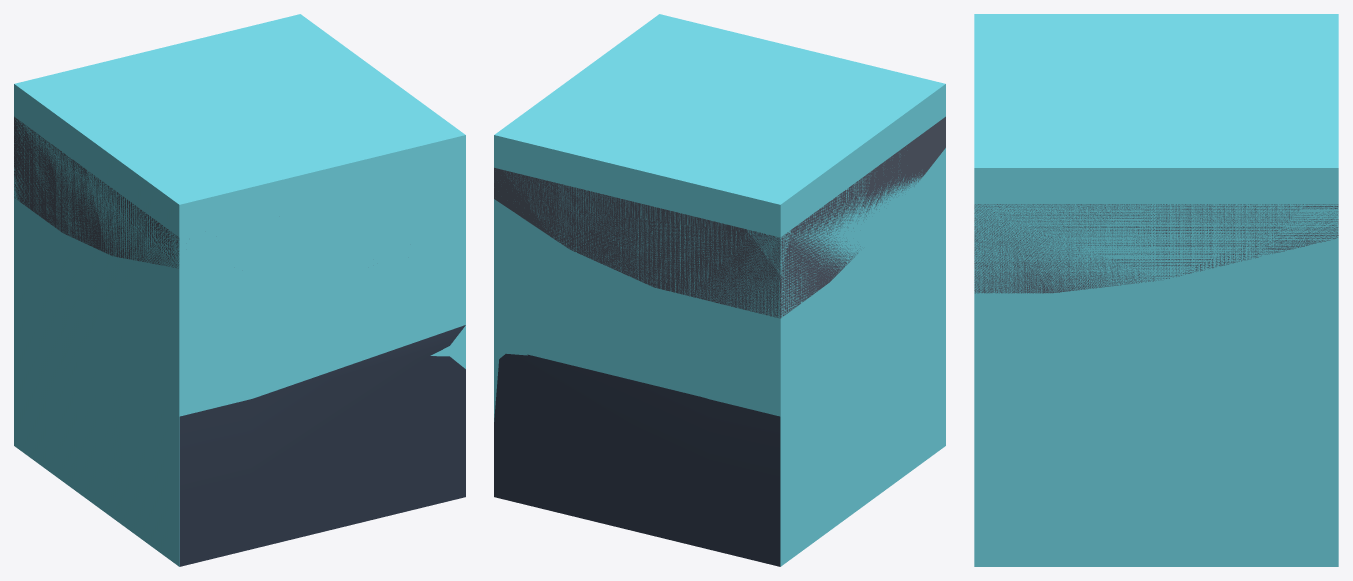
Rendered from PBOX22_FLA_01.FBX.
The picture shows the model from 3 angles, left to right: view 1: azimuth 30°, elevation 25°; view 2: azimuth 150°, elevation 25°; view 3: azimuth 270°, elevation 25°; orthographic projection. The views are drawn at different scales.
Visible parts, largest first — view 1: PBOX22_FLA_01, PBOX22_SUB_TAB_FlA_002, PBOX22_SUB_FLA_003; view 2: PBOX22_FLA_01, PBOX22_SUB_TAB_FlA_002, PBOX22_SUB_FLA_003; view 3: PBOX22_FLA_01, PBOX22_SUB_FLA_003.
Boxes of the visible parts, box(x1,y1,x2,y2) form: PBOX22_FLA_01: box(14, 14, 465, 566); PBOX22_SUB_TAB_FlA_002: box(179, 325, 465, 566); PBOX22_SUB_FLA_003: box(14, 116, 179, 268); PBOX22_FLA_01: box(494, 14, 945, 566); PBOX22_SUB_TAB_FlA_002: box(494, 353, 780, 566); PBOX22_SUB_FLA_003: box(494, 116, 945, 318); PBOX22_FLA_01: box(974, 14, 1338, 566); PBOX22_SUB_FLA_003: box(974, 204, 1338, 293).
Size of the model in its own units: 12 by 14.5 by 12.
